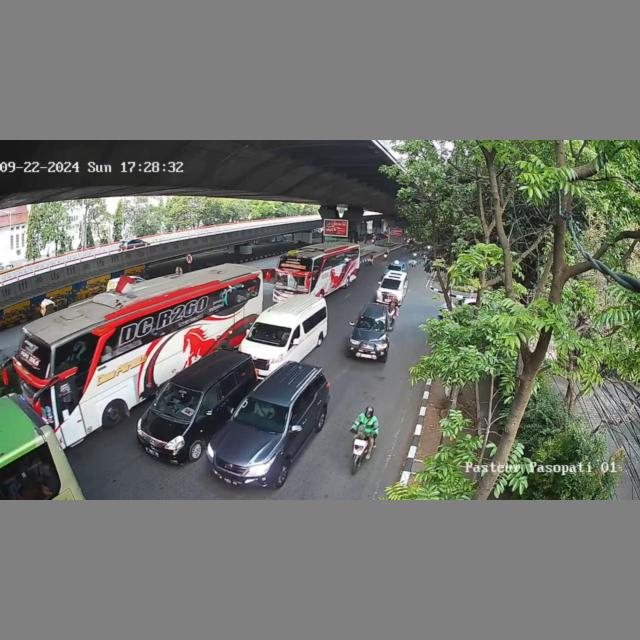windshield: (151, 384, 205, 424), (234, 398, 291, 432), (246, 322, 293, 347), (358, 315, 389, 331), (381, 278, 402, 290)
